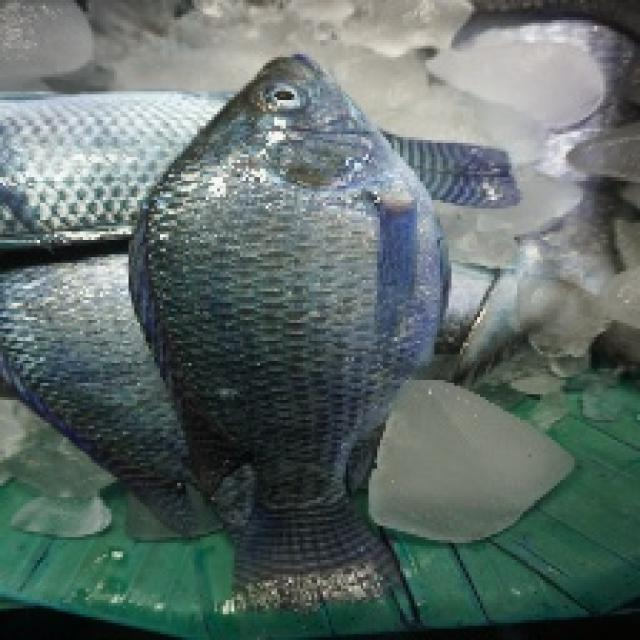Fresh: (120, 46, 467, 503)
